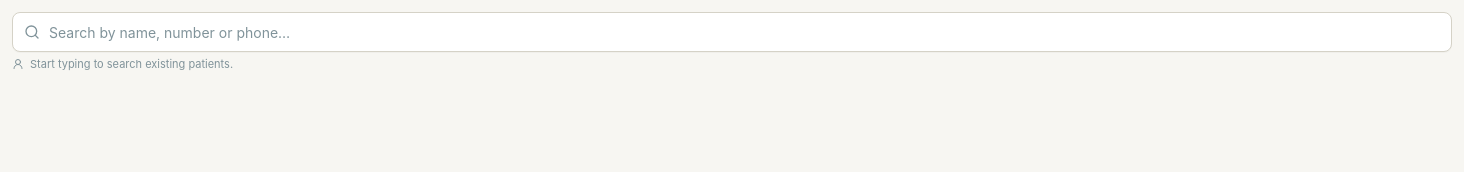
PatientSearch › surfaces an API error message
Type "error" into the dropdown at (732, 32), box [12,12,1452,52]
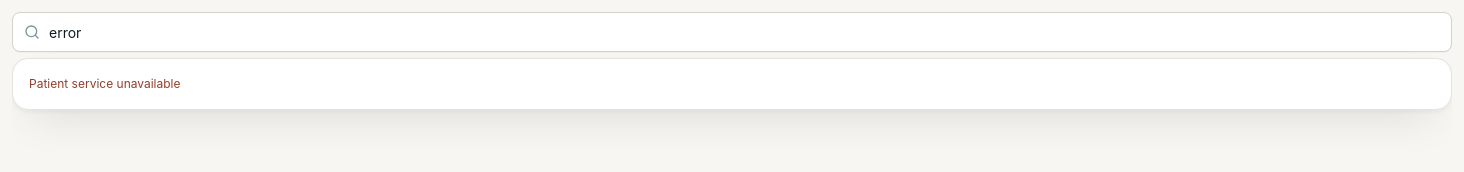
Now the text "Patient service unavailable" is shown, box [29,76,180,91]
